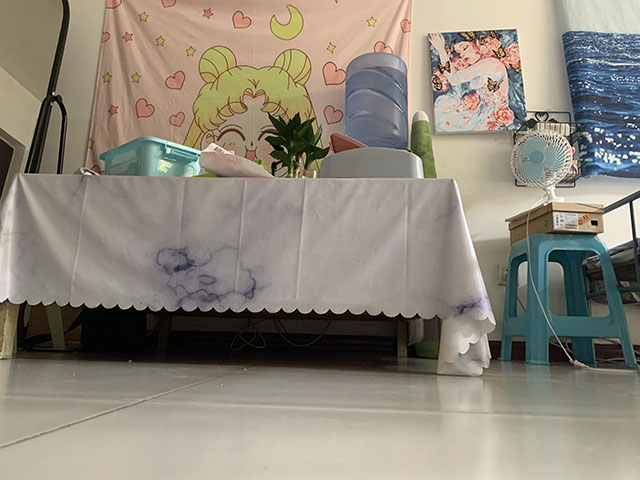stool: (494, 231, 640, 370)
table: (1, 172, 499, 378)
wire: (503, 196, 640, 374), (229, 316, 334, 355)
